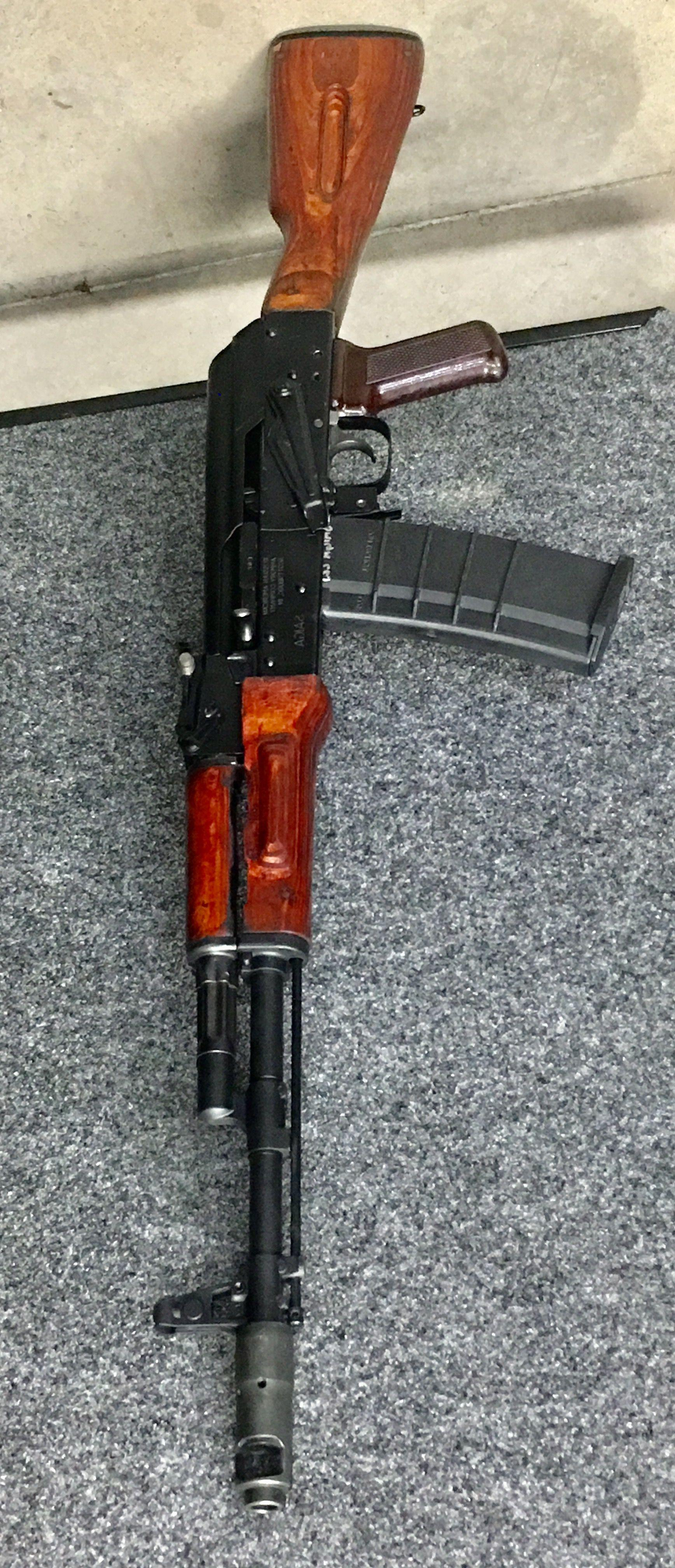gun: (0, 7, 194, 139)
